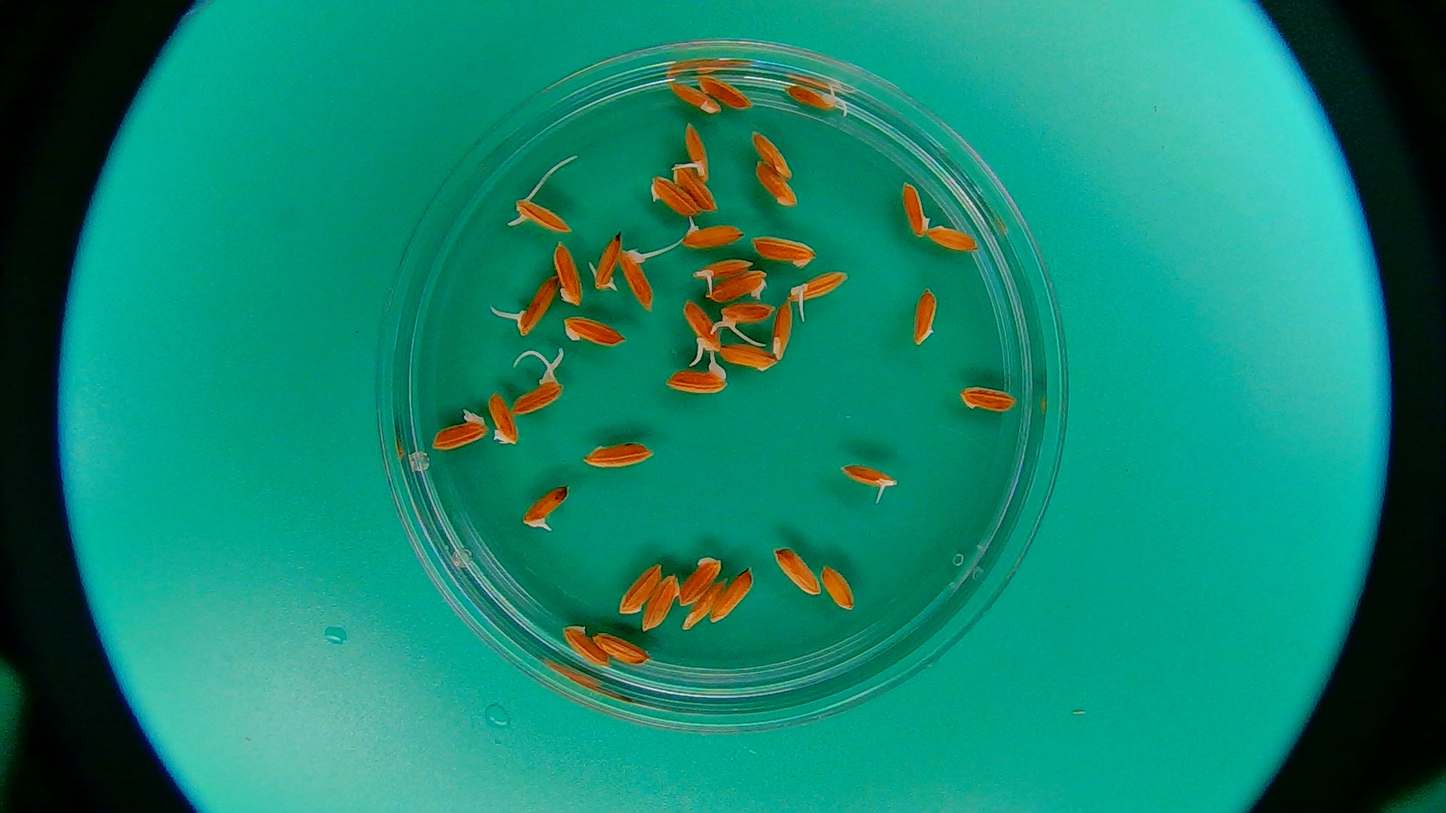no: (679, 575, 729, 632), (707, 565, 755, 624), (617, 558, 664, 615), (678, 553, 724, 611), (755, 155, 804, 208), (551, 240, 589, 305), (641, 568, 679, 632), (750, 233, 819, 268), (648, 172, 704, 215), (750, 127, 793, 183), (590, 630, 655, 667), (771, 547, 819, 597), (561, 625, 612, 671), (671, 163, 718, 212), (694, 75, 756, 111), (667, 78, 721, 119), (567, 316, 627, 352), (704, 271, 770, 303), (585, 440, 651, 471), (486, 390, 520, 449), (722, 338, 779, 373), (901, 175, 929, 246), (958, 384, 1020, 416), (817, 565, 857, 612), (910, 284, 937, 345), (925, 226, 978, 255), (773, 303, 795, 367), (768, 303, 792, 358)
yes: (679, 299, 725, 355), (619, 252, 658, 312), (518, 282, 559, 337), (664, 362, 728, 397), (682, 216, 746, 251), (787, 267, 847, 303), (715, 300, 776, 335), (522, 489, 575, 529), (433, 416, 490, 453), (517, 196, 568, 235), (837, 462, 897, 494), (590, 233, 623, 291), (692, 254, 755, 283), (511, 378, 563, 413), (785, 83, 838, 114), (682, 126, 713, 177)
